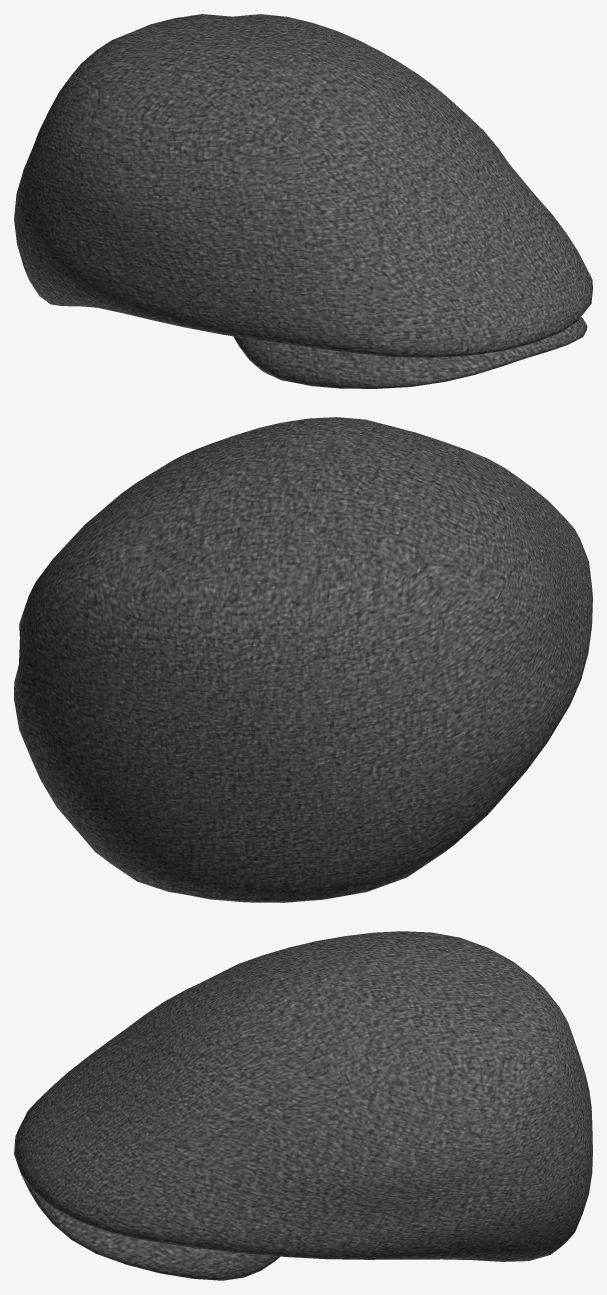
File: elvs-male-flat-cap1.glb
The picture shows the model from 3 angles, top to bottom: view 1: azimuth 30°, elevation 25°; view 2: azimuth 150°, elevation 25°; view 3: azimuth 270°, elevation 25°; orthographic projection. The views are drawn at different scales.
Visible parts, largest first — view 1: Human.elvs_male_flat_cap1; view 2: Human.elvs_male_flat_cap1; view 3: Human.elvs_male_flat_cap1.
Part boxes in pixels (x1,y1,x2,y2): Human.elvs_male_flat_cap1: [14, 14, 592, 388]; Human.elvs_male_flat_cap1: [14, 417, 592, 902]; Human.elvs_male_flat_cap1: [14, 931, 592, 1280].
Bounding box in the file's own units: 0.209 × 0.1356 × 0.2668.
1 material, 1 textured.
